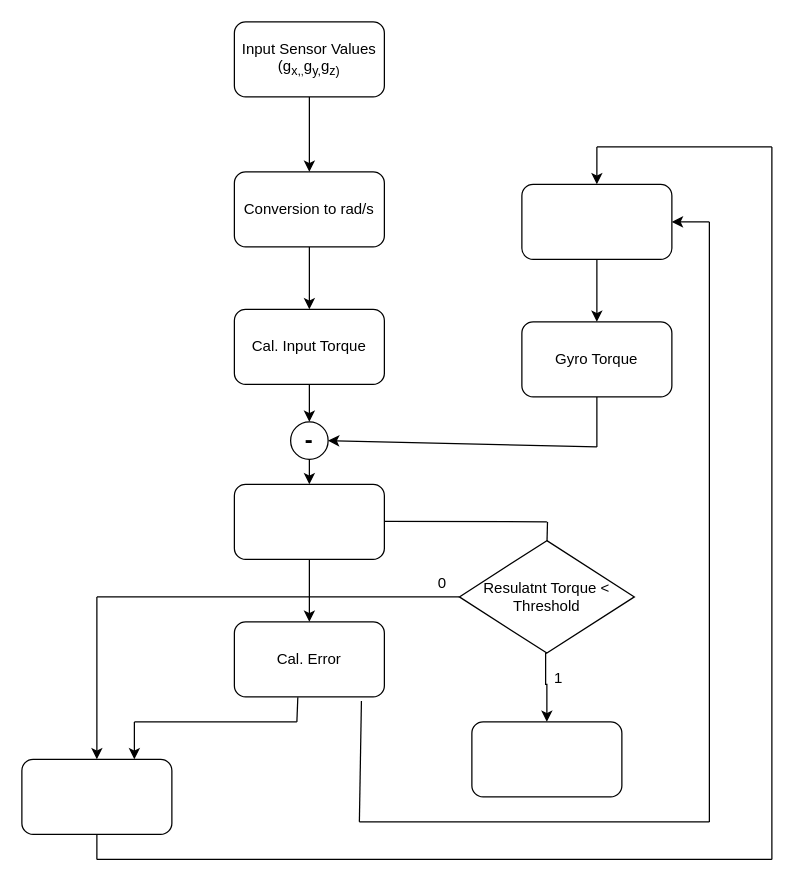
The diagram is 795 pixels wide and 883 high, and some of its shapes have lost their labels. Each missing label, with the centre of its shape:
"Freeze Weights" belongs at (x=546, y=759).
"Model" belongs at (x=96, y=796).
"Resultant Torque" belongs at (x=308, y=521).
"U(t)" belongs at (x=596, y=221).
